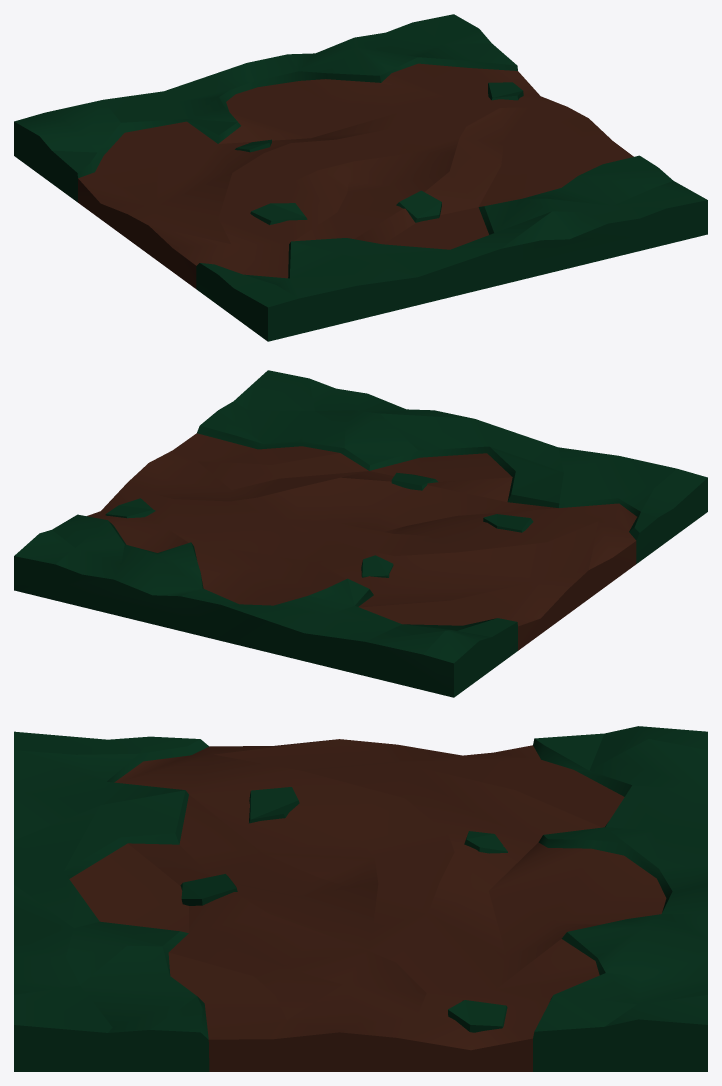
File: Ground_Path_H.fbx
3 views of the same model, one above another, from view 1: azimuth 30°, elevation 25°; view 2: azimuth 150°, elevation 25°; view 3: azimuth 270°, elevation 25° (orthographic). The views are drawn at different scales.
Visible parts, largest first — view 1: Ground_Path_H; view 2: Ground_Path_H; view 3: Ground_Path_H.
Boxes of the visible parts, x1,y1,x2,y2 form: Ground_Path_H: (14, 14, 707, 341); Ground_Path_H: (14, 370, 707, 697); Ground_Path_H: (14, 726, 707, 1071).
Bounding box in the file's own units: 147 × 15.12 × 147.
